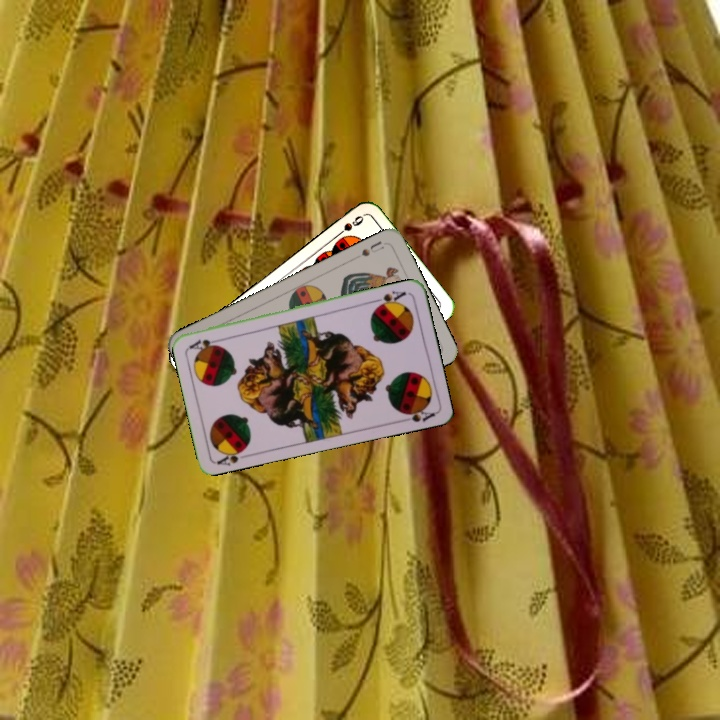S9: (331, 211, 366, 241)
SA: (213, 442, 251, 468), (370, 286, 409, 310)
SU: (358, 236, 387, 259)
